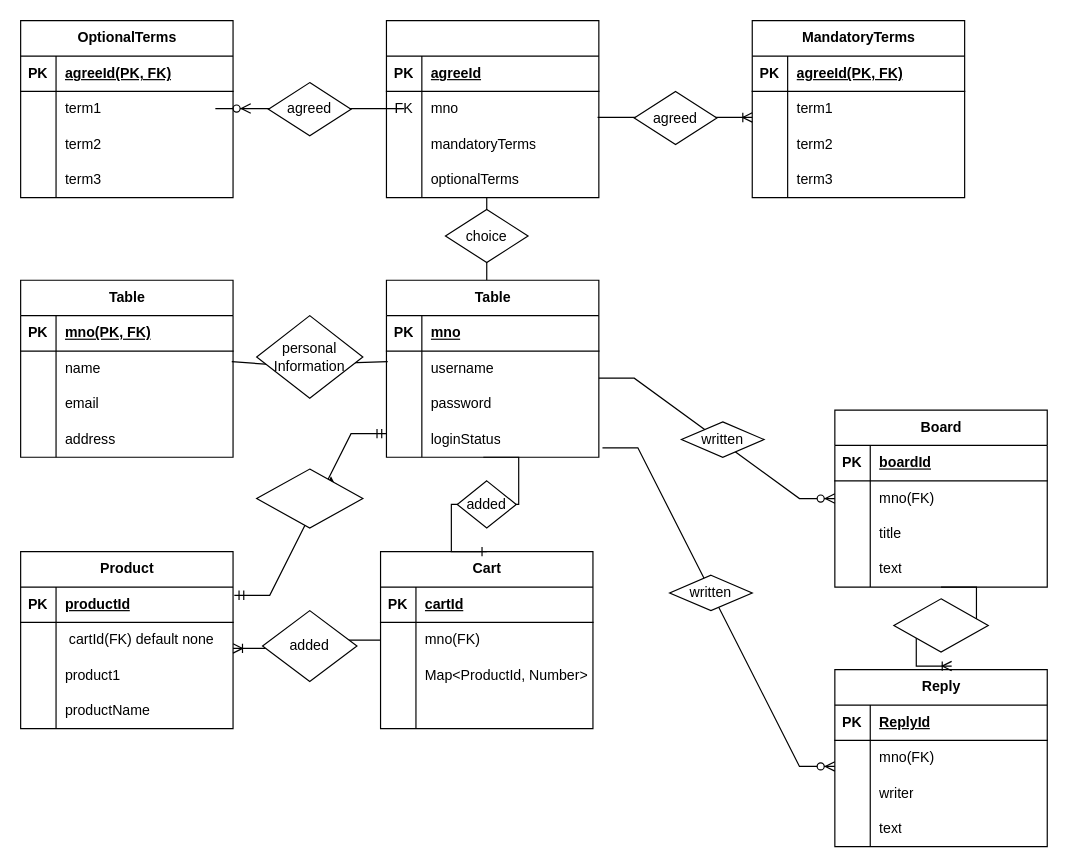
Image size: 1068x867. Some labels were removed from this diagram. The box of each missing label's shape, as (x1, y1, x2, y2) in pixels:
connected: (893, 598, 988, 652)
Direct Buy: (255, 468, 363, 528)
UserAgreement: (385, 19, 599, 198)
